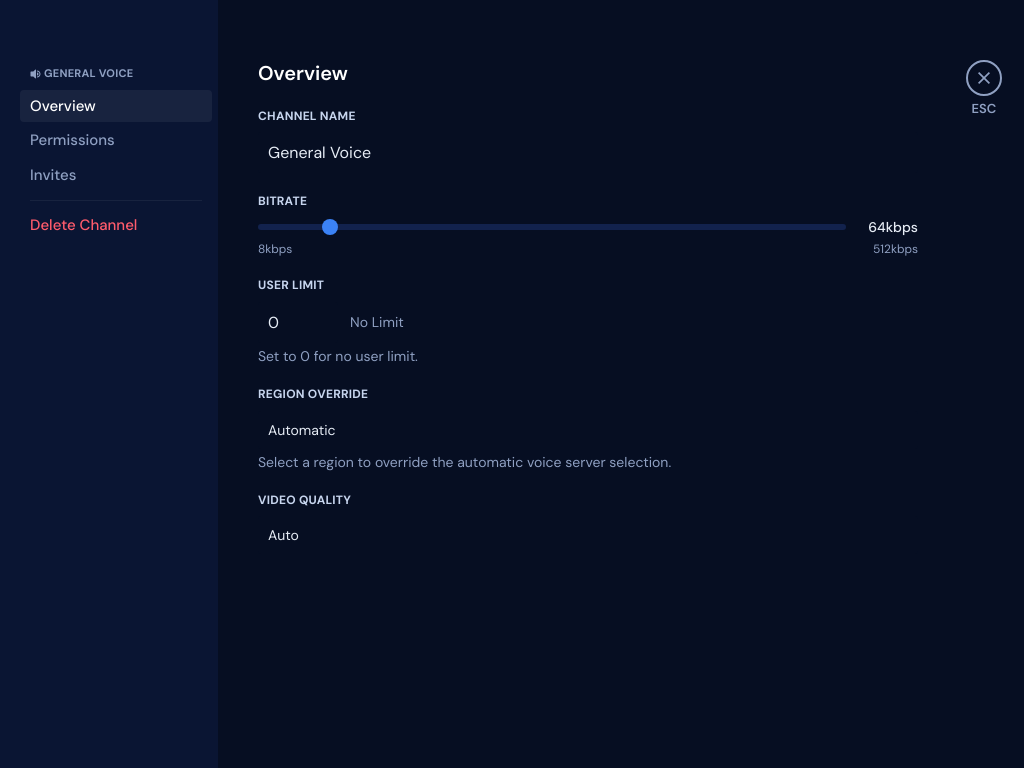
Test case: ChannelSettings › voice channel settings › shows save bar when voice settings are changed
This screenshot has width=1024, height=768.
Set the slider labelled "BITRATE" to "96000". click: (366, 227)
box: [258,224,846,230]
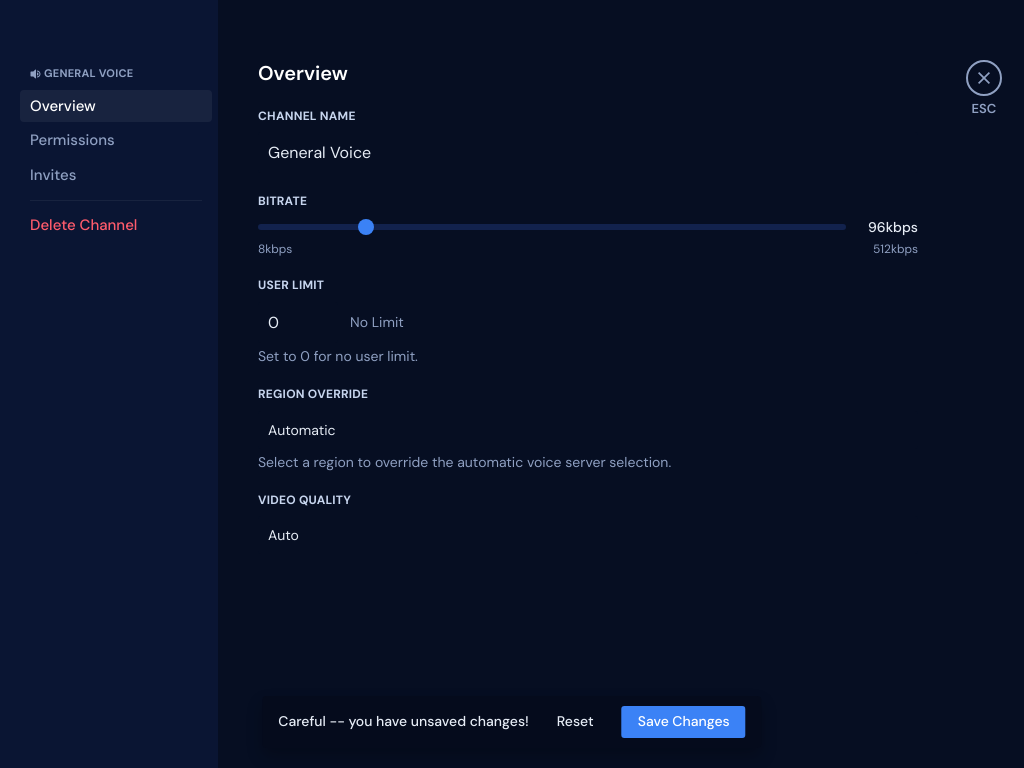
Expected: the text "Careful -- you have unsaved changes!" is shown, [278,712,529,732]
